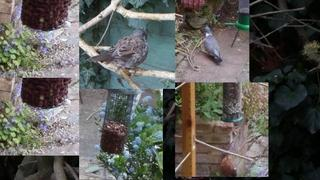dunnock: (86, 27, 148, 76)
wood pigeon: (203, 27, 223, 63)
